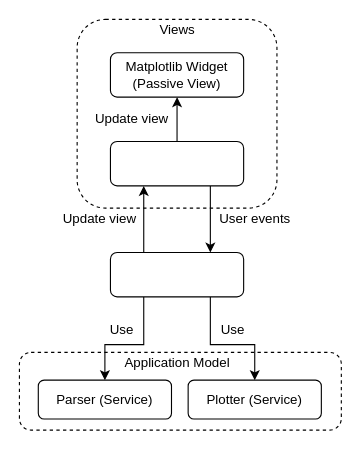
The diagram is 361 pixels wide and 450 high, and some of its shapes have lost their labels. Here are the shapes that lost their labels. From the top down, the box of each, then its label:
(109, 140, 244, 186): Main Widget (Passive View)
(109, 251, 244, 297): Presenter
